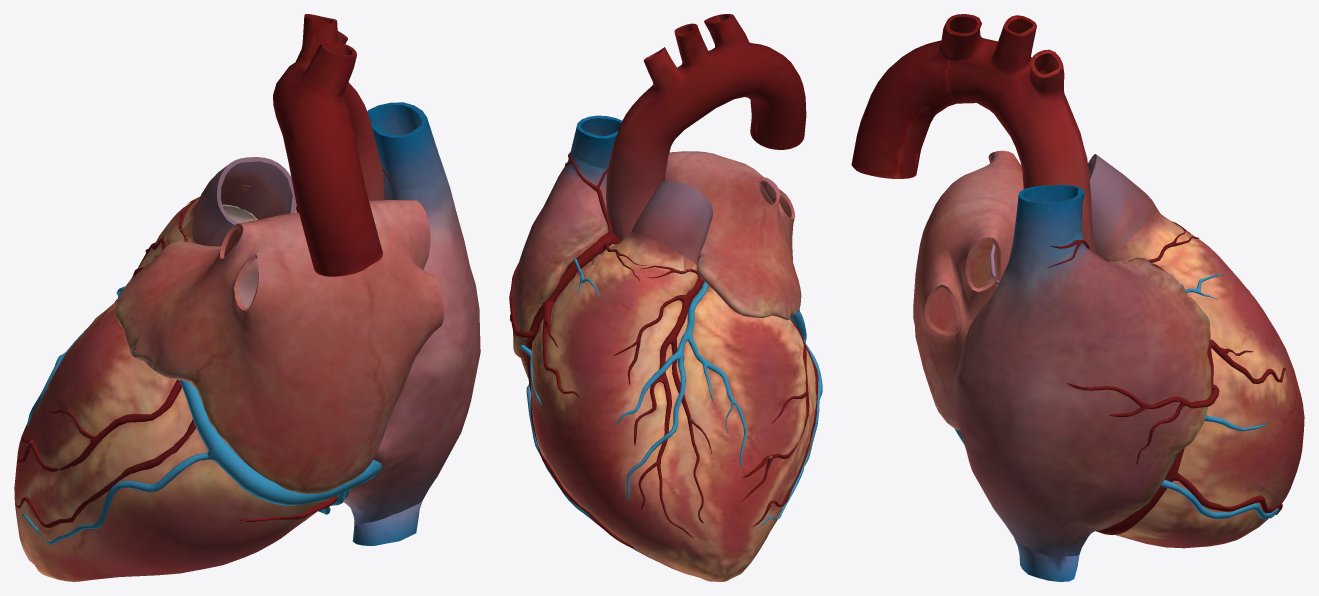
Rendered from heart.glb.
3 renders of one model, left to right at view 1: azimuth 30°, elevation 25°; view 2: azimuth 150°, elevation 25°; view 3: azimuth 270°, elevation 25°, orthographic. The views are drawn at different scales.
Parts seen in each view (by area): view 1: Left atrium#~000706, Heart, diaphragmatic surface#~000683, Right atrium#~000705, Aortic arch#~000668, Pulmonary trunk (base of)#~000669, Superior vena cava (base of)#~000665, Circumflex branch of left coronary artery#~000714, Coronary sinus#~000716, Inferior vena cava (base of)#~000666, Great cardiac (anterior interventricular) vein#Coronary vein, Posterior vein of left ventricle#~000718, Heart, sternocostal surface#front~000698 (+1 smaller); view 2: Heart, sternocostal surface#front~000698, Heart, diaphragmatic surface#~000683, Aortic arch#~000668, Left atrium#~000706, Right atrium#~000705, Pulmonary trunk (base of)#~000669, Aorta (base of)#~000667, Anterior interventricular branch (left anterior descending) , Great cardiac (anterior interventricular) vein#Coronary vein, Superior vena cava (base of)#~000665, Circumflex branch of left coronary artery#~000714, Right coronary artery#~000709 (+5 smaller); view 3: Right atrium#~000705, Aortic arch#~000668, Heart, sternocostal surface#front~000698, Left atrium#~000706, Heart, diaphragmatic surface#~000683, Pulmonary trunk (base of)#~000669, Superior vena cava (base of)#~000665, Inferior vena cava (base of)#~000666, Atrial branch#~300421, Right coronary artery#~000709, Small cardiac vein#~000719, Right marginal artery#~000710 (+2 smaller).
Boxes of the visible parts, x1,y1,x2,y2 form: Left atrium#~000706: (115,199,443,493); Heart, diaphragmatic surface#~000683: (14,184,329,581); Right atrium#~000705: (343,161,480,524); Aortic arch#~000668: (273,14,382,276); Pulmonary trunk (base of)#~000669: (192,157,296,246); Superior vena cava (base of)#~000665: (367,102,441,189); Circumflex branch of left coronary artery#~000714: (16,379,195,527); Coronary sinus#~000716: (207,440,382,505); Inferior vena cava (base of)#~000666: (352,501,422,545); Great cardiac (anterior interventricular) vein#Coronary vein: (27,286,223,451); Posterior vein of left ventricle#~000718: (19,452,210,544); Heart, sternocostal surface#front~000698: (20,207,184,440); Heart, sternocostal surface#front~000698: (530,265,758,579); Heart, diaphragmatic surface#~000683: (531,232,818,581); Aortic arch#~000668: (614,14,806,164); Left atrium#~000706: (665,151,801,319); Right atrium#~000705: (512,152,608,378); Pulmonary trunk (base of)#~000669: (631,181,712,264); Aorta (base of)#~000667: (606,143,667,240); Anterior interventricular branch (left anterior descending) : (614,276,711,537); Great cardiac (anterior interventricular) vein#Coronary vein: (616,281,806,501); Superior vena cava (base of)#~000665: (570,115,621,168); Circumflex branch of left coronary artery#~000714: (740,319,818,526); Right coronary artery#~000709: (526,233,620,385); Right atrium#~000705: (953,230,1211,557); Aortic arch#~000668: (851,14,1089,187); Heart, sternocostal surface#front~000698: (1176,239,1304,502); Left atrium#~000706: (913,150,1023,430); Heart, diaphragmatic surface#~000683: (1103,207,1280,548); Pulmonary trunk (base of)#~000669: (1088,154,1156,258); Superior vena cava (base of)#~000665: (1012,184,1084,252); Inferior vena cava (base of)#~000666: (1014,538,1079,581); Atrial branch#~300421: (1067,383,1219,464); Right coronary artery#~000709: (1095,263,1214,534); Small cardiac vein#~000719: (1160,480,1278,519); Right marginal artery#~000710: (1174,473,1282,514).
Size of the model in its own units: 0.4911 by 0.7537 by 0.5511.
5 materials, 5 textured.
